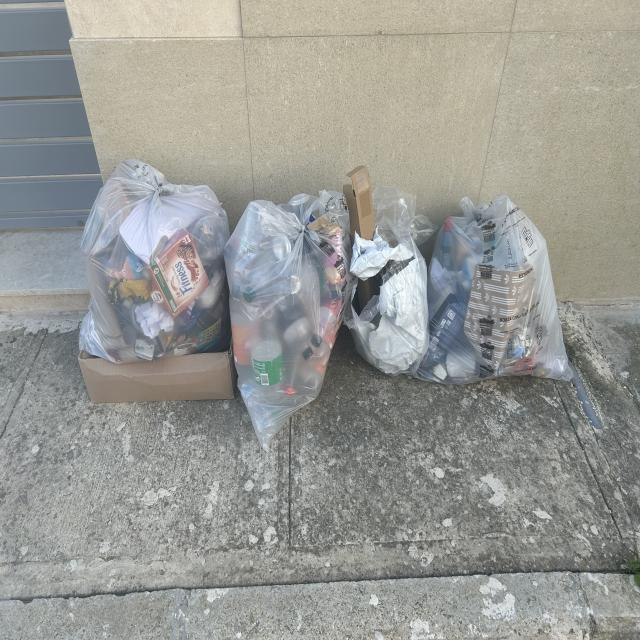grey_bag: (223, 179, 351, 458), (75, 152, 232, 360), (433, 192, 582, 388), (343, 163, 433, 382)
